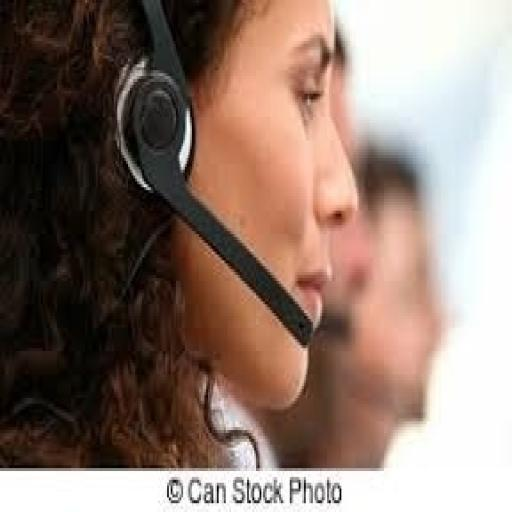calling: (0, 0, 359, 468)
